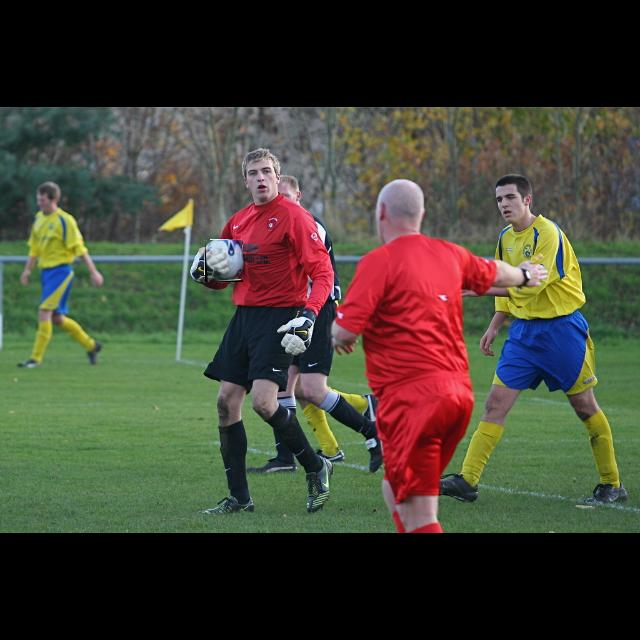Football: (205, 240, 243, 282)
